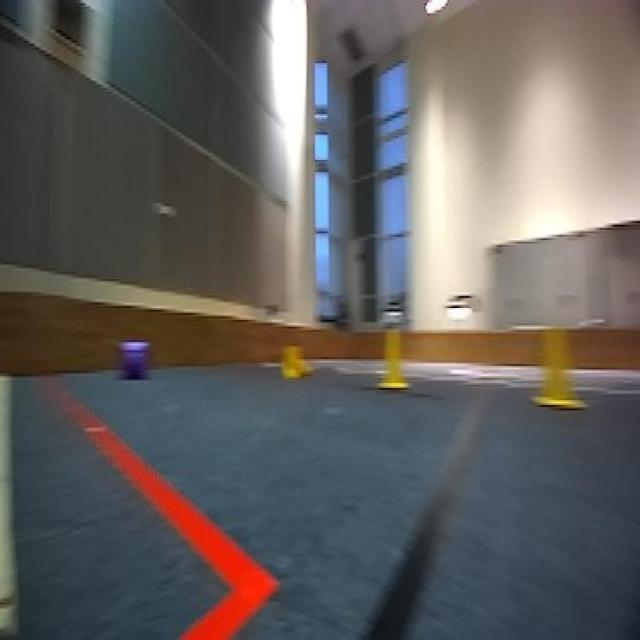frc_cone: (530, 327, 586, 408), (377, 318, 410, 392), (281, 342, 315, 381)
frc_cube: (121, 337, 149, 381)
